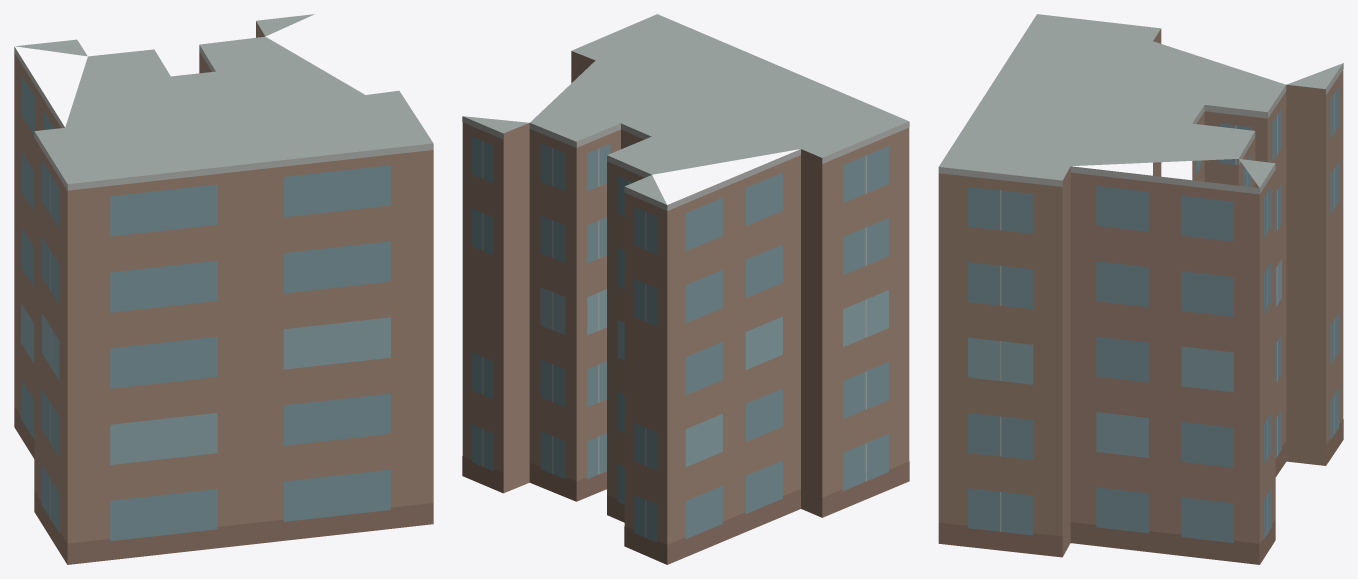
File: survey-upis-32946010.glb
3 views of the same model, side by side, from view 1: azimuth 30°, elevation 25°; view 2: azimuth 150°, elevation 25°; view 3: azimuth 270°, elevation 25° (orthographic). The views are drawn at different scales.
Parts seen in each view (by area): view 1: survey-upis-32946010.tmp; view 2: survey-upis-32946010.tmp; view 3: survey-upis-32946010.tmp.
Boxes of the visible parts, x1,y1,x2,y2 form: survey-upis-32946010.tmp: (14,14,433,564); survey-upis-32946010.tmp: (462,14,909,564); survey-upis-32946010.tmp: (938,14,1343,564).
Size of the model in its own units: 14.32 by 14.45 by 14.08.
